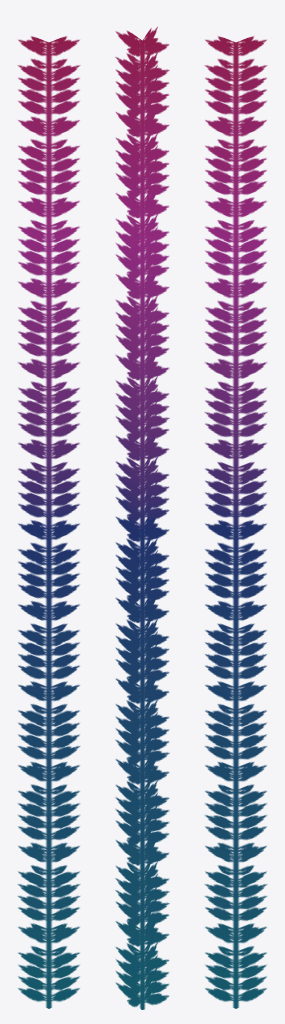
The model's file is haidai_long_l.glb.
3 renders of one model, left to right at view 1: azimuth 90°, elevation 25°; view 2: azimuth 150°, elevation 25°; view 3: azimuth 270°, elevation 25°, orthographic.
Visible parts, largest first — view 1: pPlane360; view 2: pPlane360; view 3: pPlane360.
Boxes of the visible parts, box(x1,y1,x2,y2) form: pPlane360: box(17, 36, 80, 1008); pPlane360: box(115, 27, 169, 1009); pPlane360: box(204, 36, 267, 1008).
Bounding box in the file's own units: 0.0569 × 0.8822 × 0.0569.
Materials: 1 (1 with a texture image).
